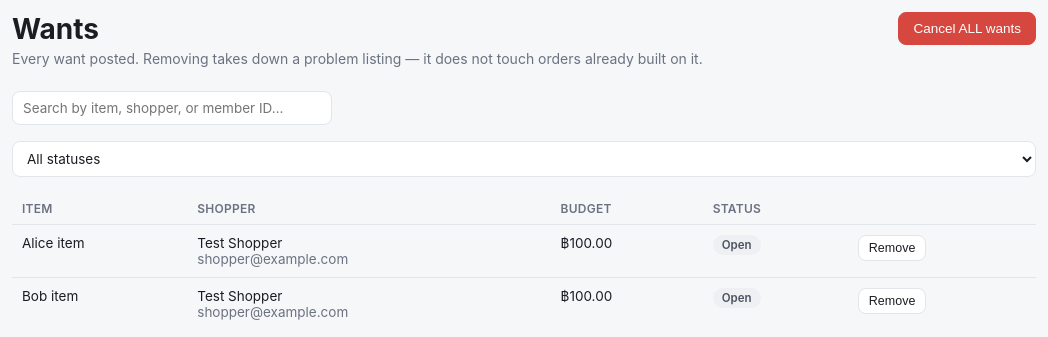
Test: WantsPage › finds a want by its shopper's membership ID
Expected: the text "Alice item" is shown, [12,224,187,278]
Type "H00000002" into the field with placeholder "Search by item, shopper, or member ID…" at [172, 108], box [12,91,332,125]
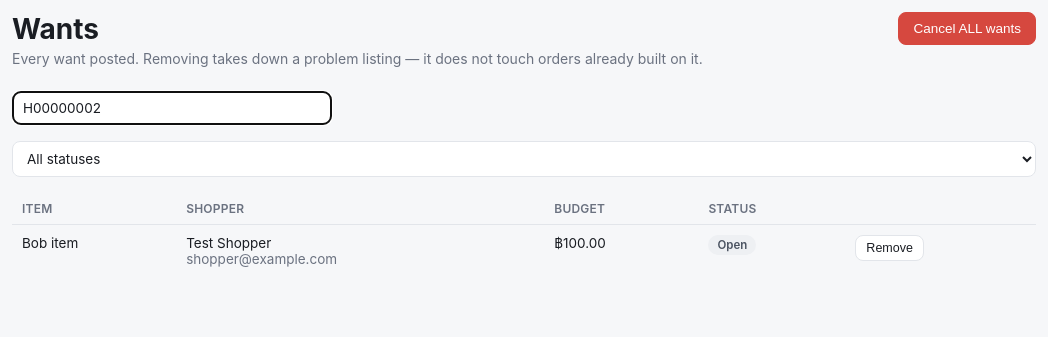
Expected: the text "Bob item" is shown, [12,224,176,277]
Expected: the text "Alice item" is gone
